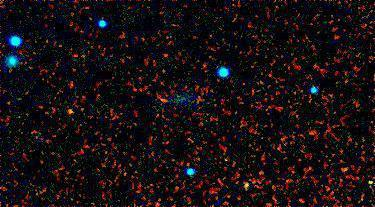star: (58, 97, 88, 127)
